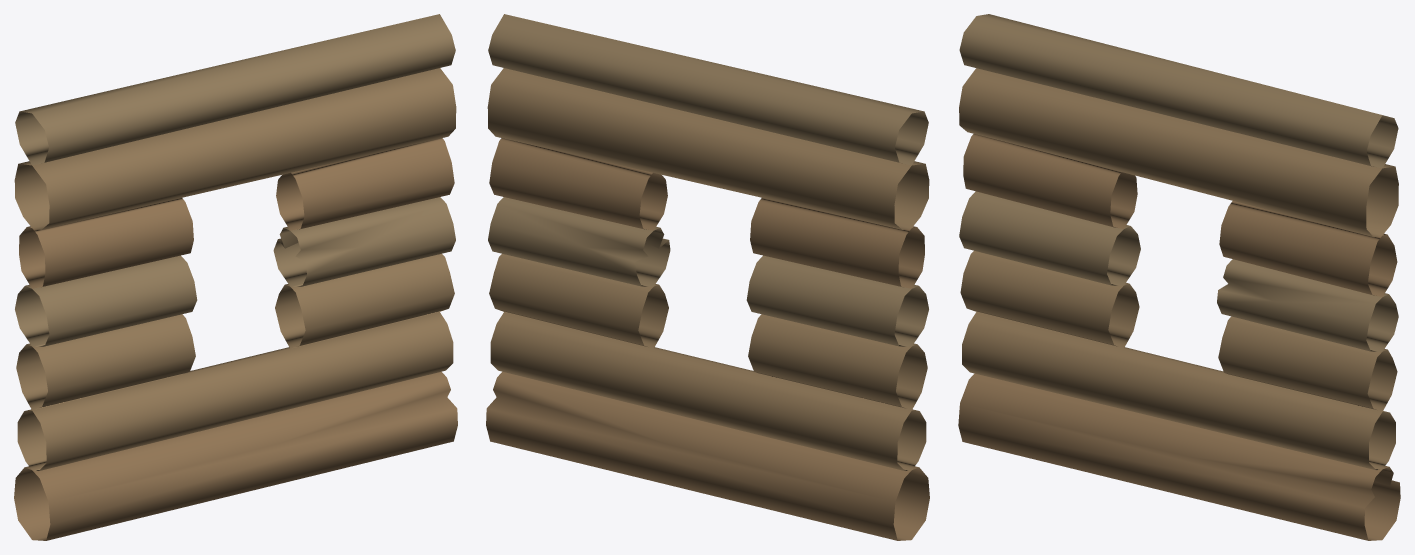
The model's file is rpgpp_ag_wall_01_3x3_window_d.fbx.
3 renders of one model, left to right at view 1: azimuth 30°, elevation 25°; view 2: azimuth 150°, elevation 25°; view 3: azimuth 330°, elevation 25°, orthographic.
Visible parts, largest first — view 1: rpgpp_ag_wall_01_3x3_window_d; view 2: rpgpp_ag_wall_01_3x3_window_d; view 3: rpgpp_ag_wall_01_3x3_window_d.
Boxes of the visible parts, box(x1,y1,x2,y2) form: rpgpp_ag_wall_01_3x3_window_d: box(14, 14, 457, 540); rpgpp_ag_wall_01_3x3_window_d: box(486, 14, 929, 540); rpgpp_ag_wall_01_3x3_window_d: box(958, 14, 1400, 540).
Bounding box in the file's own units: 3 × 3 × 0.4626.
